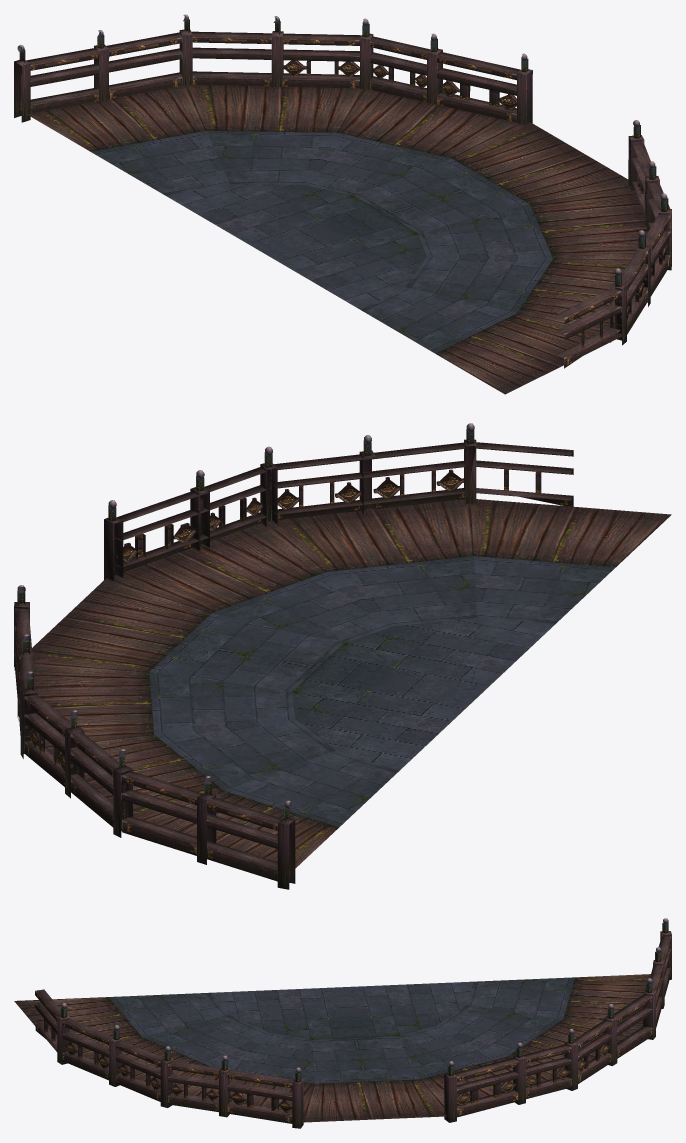
Rendered from forest_02_wood_02.FBX.
The picture shows the model from 3 angles, top to bottom: view 1: azimuth 30°, elevation 25°; view 2: azimuth 150°, elevation 25°; view 3: azimuth 270°, elevation 25°; orthographic projection. The views are drawn at different scales.
Visible parts, largest first — view 1: forest_02_wood_02, Cylinder001; view 2: forest_02_wood_02, Cylinder001; view 3: forest_02_wood_02, Cylinder001.
Boxes of the visible parts, left/top/right/bottom form: forest_02_wood_02: left=21, top=84, right=647, bottom=394; Cylinder001: left=14, top=14, right=671, bottom=368; forest_02_wood_02: left=23, top=499, right=671, bottom=868; Cylinder001: left=14, top=423, right=573, bottom=889; forest_02_wood_02: left=14, top=974, right=650, bottom=1122; Cylinder001: left=35, top=918, right=671, bottom=1128.
Bounding box in the file's own units: 18.21 × 3.29 × 33.04.
1 material, 1 textured.
